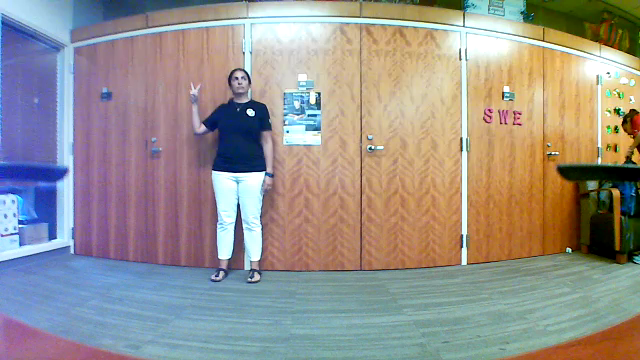peace: (184, 78, 205, 105)
